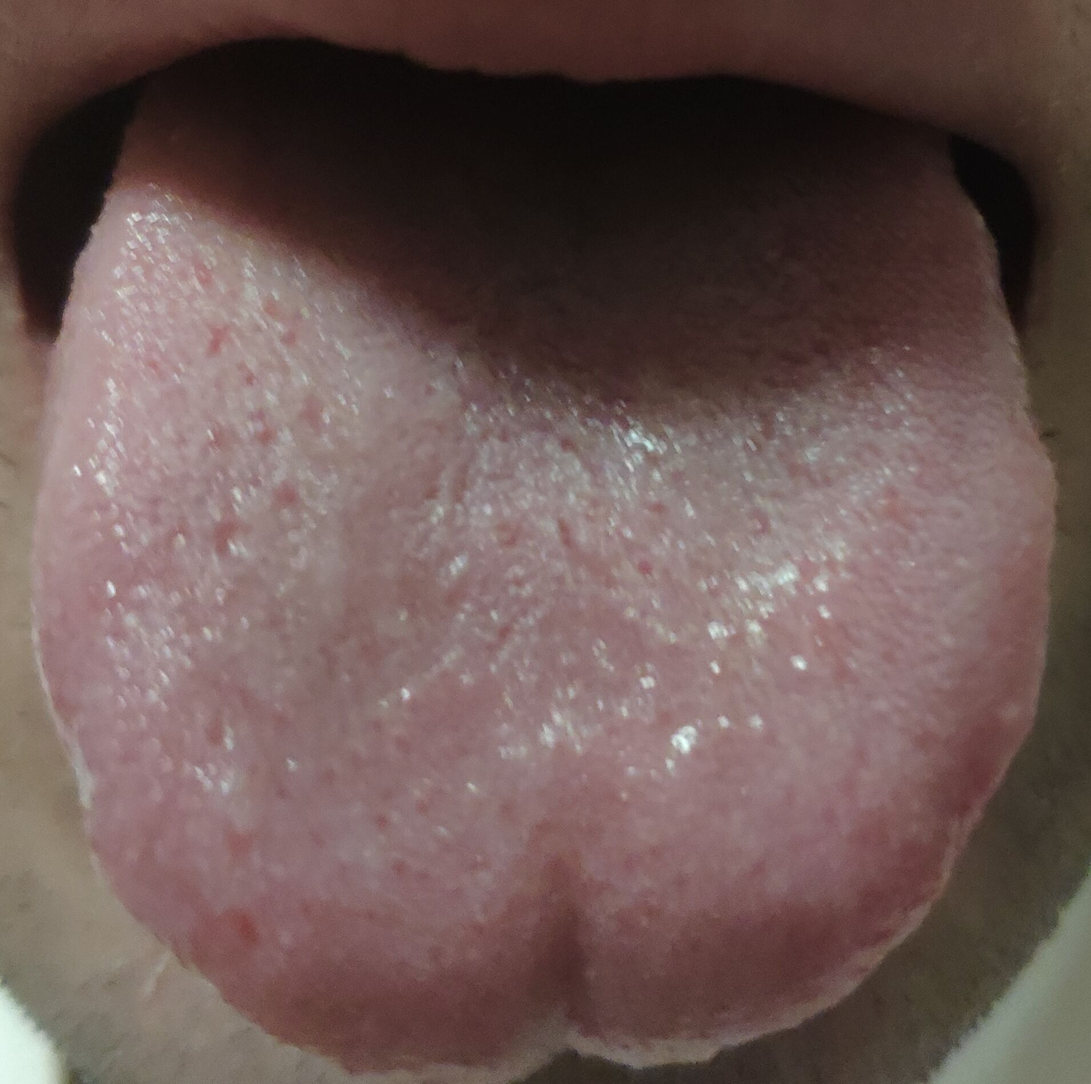baitaishe: (32, 47, 1055, 1084)
hongdianshe: (629, 553, 656, 587)
xinfeiao: (377, 957, 733, 1084)
